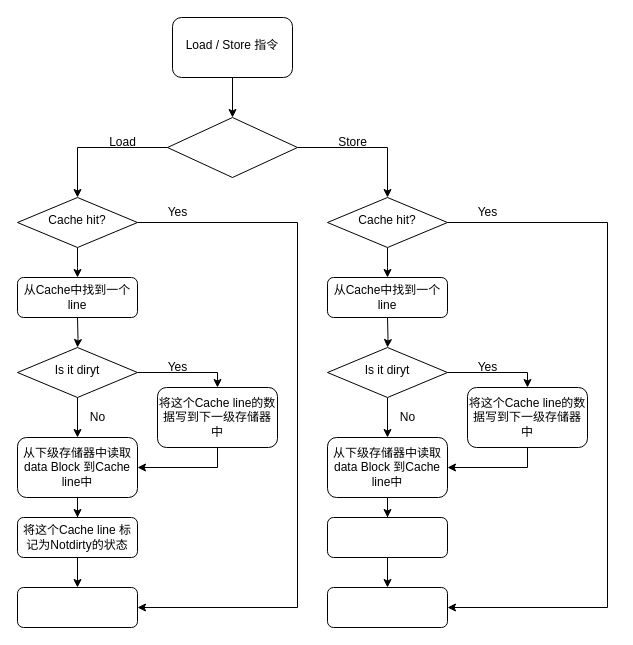
Image size: 633x645. Some labels were removed from this diagram. The shapes that lost their labels are listed below. From the top down, each one's centre as x and y in pixels, then its label:
At (x=232, y=147): "Load？ Store？".
At (x=387, y=537): "将Store数据写入到Cache中".
At (x=77, y=607): "返回load 指令所需要的数据".
At (x=387, y=607): "将这个Cache line标记为diry状态".
